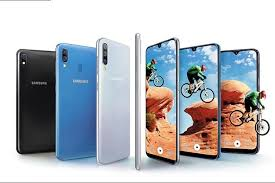samsung: (95, 35, 134, 163), (141, 36, 180, 164), (55, 41, 96, 160), (14, 46, 56, 157), (219, 46, 260, 155), (180, 42, 218, 157)
